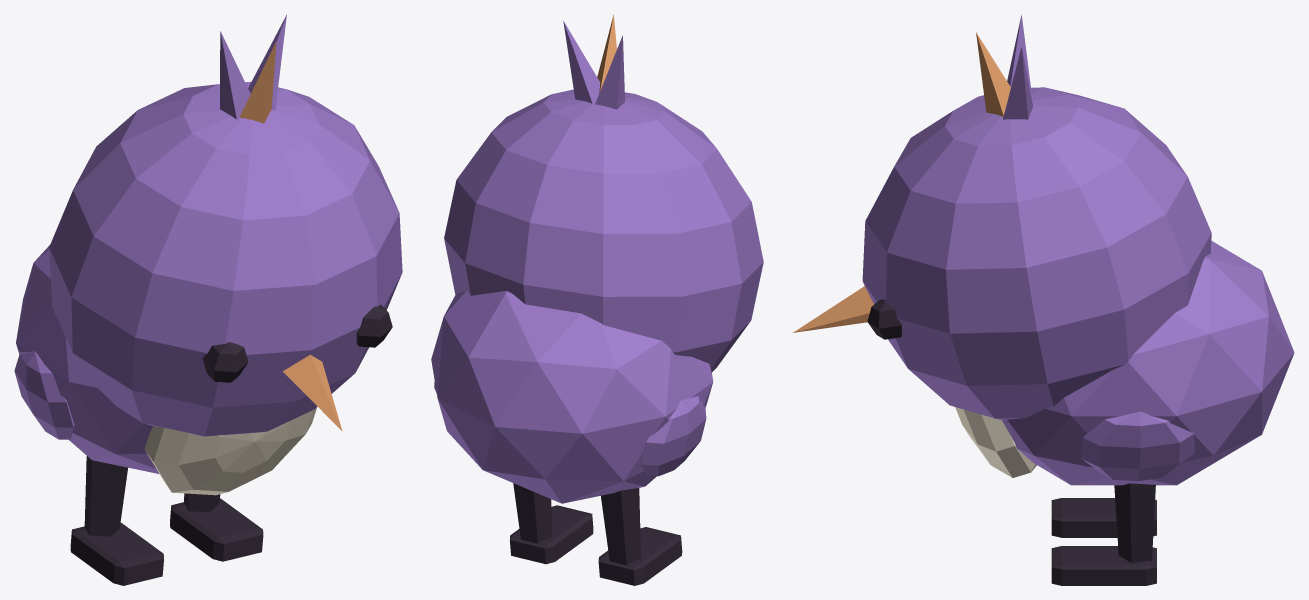
File: bird-city-2.glb
3 views of the same model, side by side, from view 1: azimuth 30°, elevation 25°; view 2: azimuth 150°, elevation 25°; view 3: azimuth 270°, elevation 25° (orthographic). The views are drawn at different scales.
Visible parts, largest first — view 1: bird-city-2; view 2: bird-city-2; view 3: bird-city-2.
Part boxes in pixels (left/top/right/bottom): bird-city-2: left=14, top=14, right=402, bottom=585; bird-city-2: left=431, top=14, right=763, bottom=585; bird-city-2: left=793, top=15, right=1294, bottom=585.
Bounding box in the file's own units: 0.5298 × 0.9 × 0.7525.
